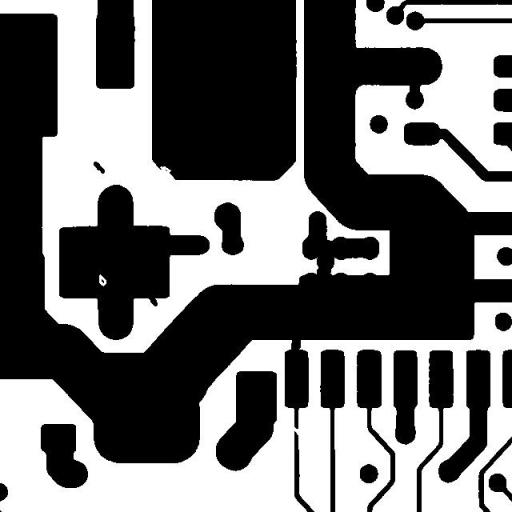copper: (86, 154, 112, 180)
mousebite: (150, 158, 182, 190)
open: (284, 420, 307, 442)
pin-hole: (91, 266, 114, 294)
short: (309, 258, 340, 287), (283, 328, 308, 362)
spur: (139, 286, 165, 314)
